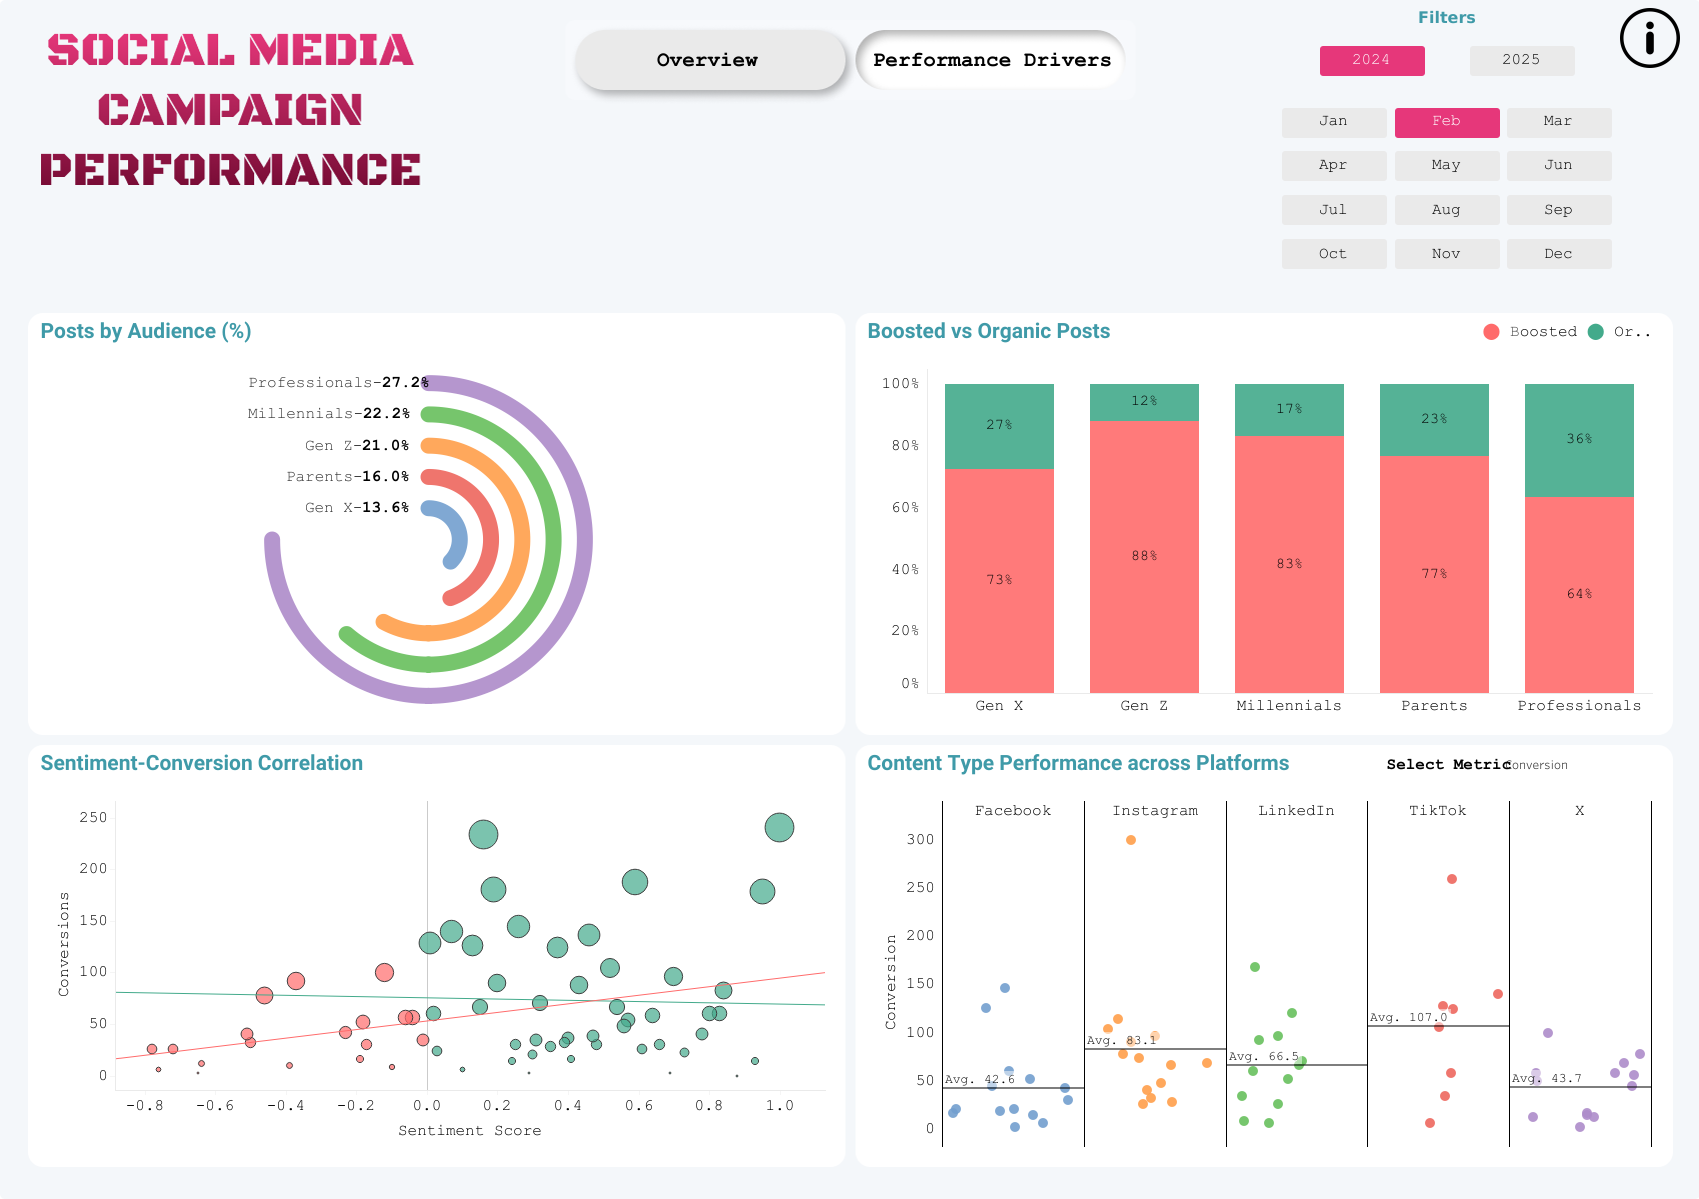

Layout of this report page (visuals, bound fields, positions):
{"tool":"tableau","page":{"name":"Performance Drivers","canvas":[1700,1200],"ordinal":1},"visuals":[{"type":"image","param":"Image/Performance_background.png","box":[0,0,1700,1200]},{"type":"blank","box":[0,0,1700,70]},{"type":"blank","box":[28,8,1194,300]},{"type":"text","box":[1222,8,450,34]},{"type":"dashboard-object","box":[1620,8,60,60]},{"type":"dashboard-object","box":[565,20,285,80]},{"type":"dashboard-object","box":[850,20,285,80]},{"type":"worksheet","title":"Year Filter","mark":"Shape","box":[1222,42,450,35]},{"type":"text","box":[0,70,1700,309]},{"type":"worksheet","title":"Month Filter","mark":"Shape","box":[1222,77,450,231]},{"type":"text","box":[28,308,822,36]},{"type":"text","box":[850,308,822,36]},{"type":"text","box":[1480,313,180,30]},{"type":"worksheet","title":"TargetAudience_Proportion","mark":"Line","box":[28,344,822,390]},{"type":"worksheet","title":"Boosted vs Organic","mark":"Bar","cols":["target_audience"],"box":[850,344,822,396]},{"type":"blank","box":[0,379,1700,821]},{"type":"text","box":[28,740,822,36]},{"type":"text","box":[850,740,822,36]},{"type":"text","box":[1384,751,131,26]},{"type":"parameter","param":"[Parameters].[Parameter 3]","box":[1503,755,160,25]},{"type":"worksheet","title":"Conversion vs Sentiment","mark":"Circle","rows":["conversions"],"cols":["sentiment_score"],"box":[28,776,822,396]},{"type":"worksheet","title":"Post types by platforms","mark":"Circle","rows":["Calculation_616993215394897926"],"cols":["platform","Calculation_616993215396368396"],"box":[850,776,822,396]}]}

Visuals, with their boxes in screenshot pixels (x1, y1, x2, y2), scaled from the page's 1700x1200 canvas onto the 1699x1199 screenshot:
image: <bbox>0, 0, 1698, 1198</bbox>
blank: <bbox>0, 0, 1698, 70</bbox>
blank: <bbox>28, 8, 1221, 308</bbox>
text: <bbox>1221, 8, 1671, 42</bbox>
dashboard-object: <bbox>1619, 8, 1679, 68</bbox>
dashboard-object: <bbox>565, 20, 850, 100</bbox>
dashboard-object: <bbox>850, 20, 1134, 100</bbox>
"Year Filter" worksheet (Shape marks): <bbox>1221, 42, 1671, 77</bbox>
text: <bbox>0, 70, 1698, 379</bbox>
"Month Filter" worksheet (Shape marks): <bbox>1221, 77, 1671, 308</bbox>
text: <bbox>28, 308, 850, 344</bbox>
text: <bbox>850, 308, 1671, 344</bbox>
text: <bbox>1479, 313, 1659, 343</bbox>
"TargetAudience_Proportion" worksheet (Line marks): <bbox>28, 344, 850, 733</bbox>
"Boosted vs Organic" worksheet (Bar marks): <bbox>850, 344, 1671, 739</bbox>
blank: <bbox>0, 379, 1698, 1198</bbox>
text: <bbox>28, 739, 850, 775</bbox>
text: <bbox>850, 739, 1671, 775</bbox>
text: <bbox>1383, 750, 1514, 776</bbox>
parameter: <bbox>1502, 754, 1662, 779</bbox>
"Conversion vs Sentiment" worksheet (Circle marks): <bbox>28, 775, 850, 1171</bbox>
"Post types by platforms" worksheet (Circle marks): <bbox>850, 775, 1671, 1171</bbox>
